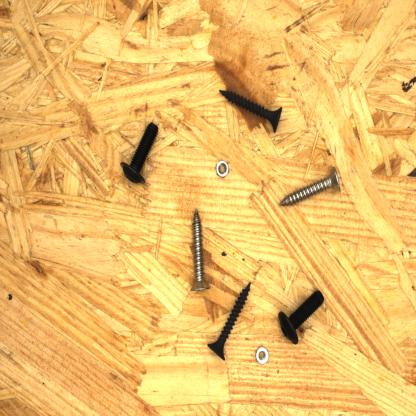screw: (204, 277, 254, 363), (216, 86, 285, 137), (276, 287, 328, 348), (276, 163, 344, 208), (117, 120, 161, 187), (186, 206, 214, 293)
